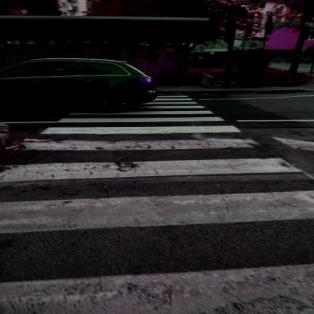Paso de Cebra: (0, 155, 314, 240), (41, 116, 248, 137)
